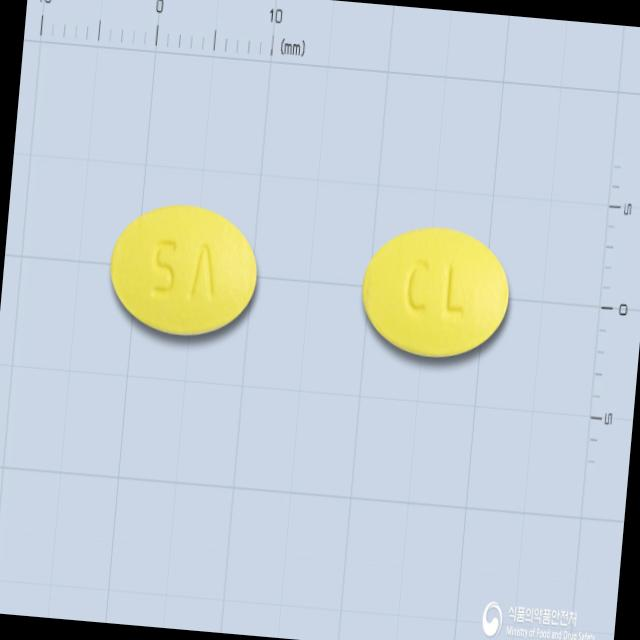CLARIUM: (101, 195, 266, 346)
